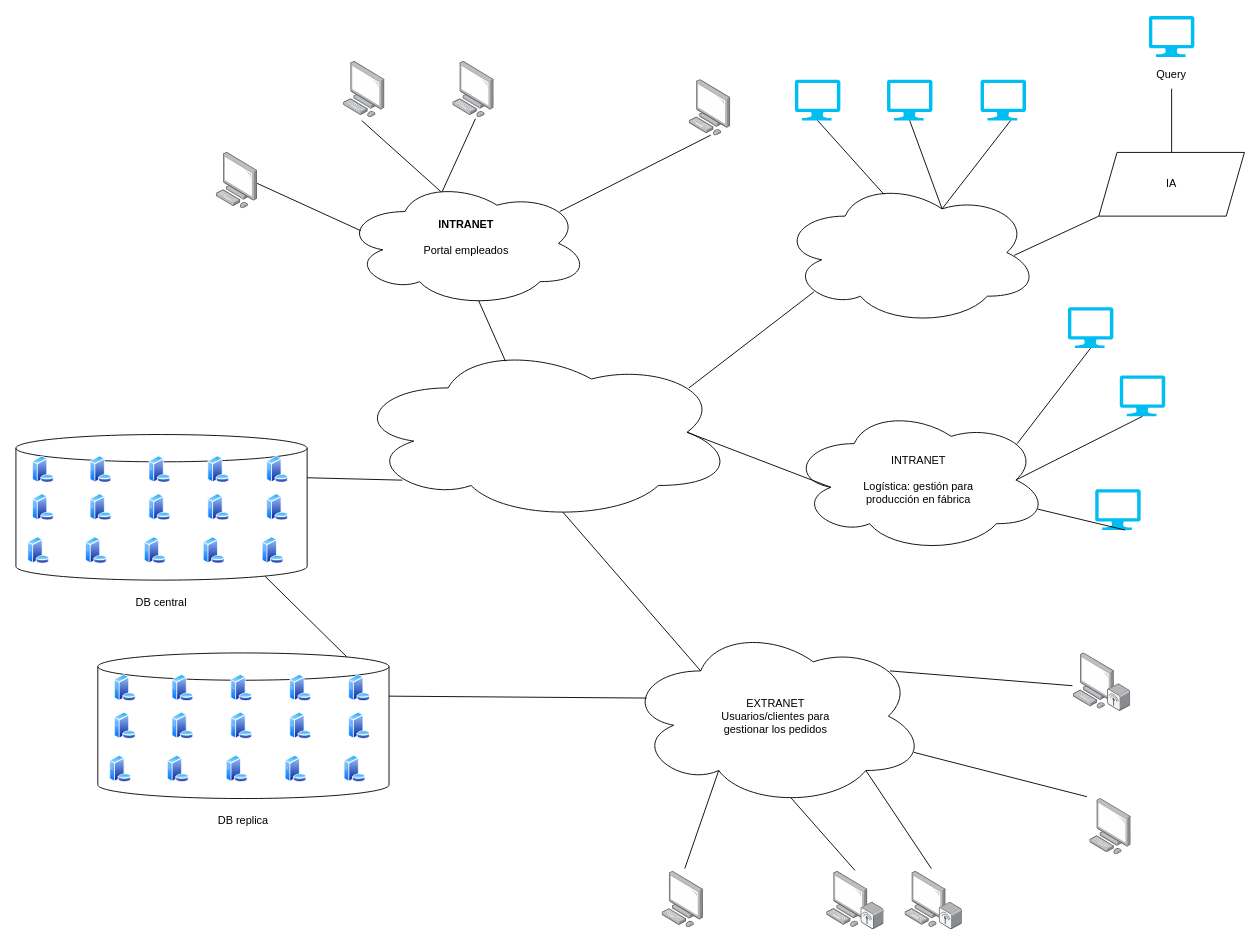
This 1260x945 diagram has some shape labels left out. The shapes that lost their labels are listed below. From the top down, each one's box as (x1, y1, x2, y2) in pixels, then its label:
(779, 179, 1039, 325): INTRANET Logística: distribución de stock
(352, 343, 735, 521): INTRANET GENERAL Firewalls, proxies, IDS, etc.
